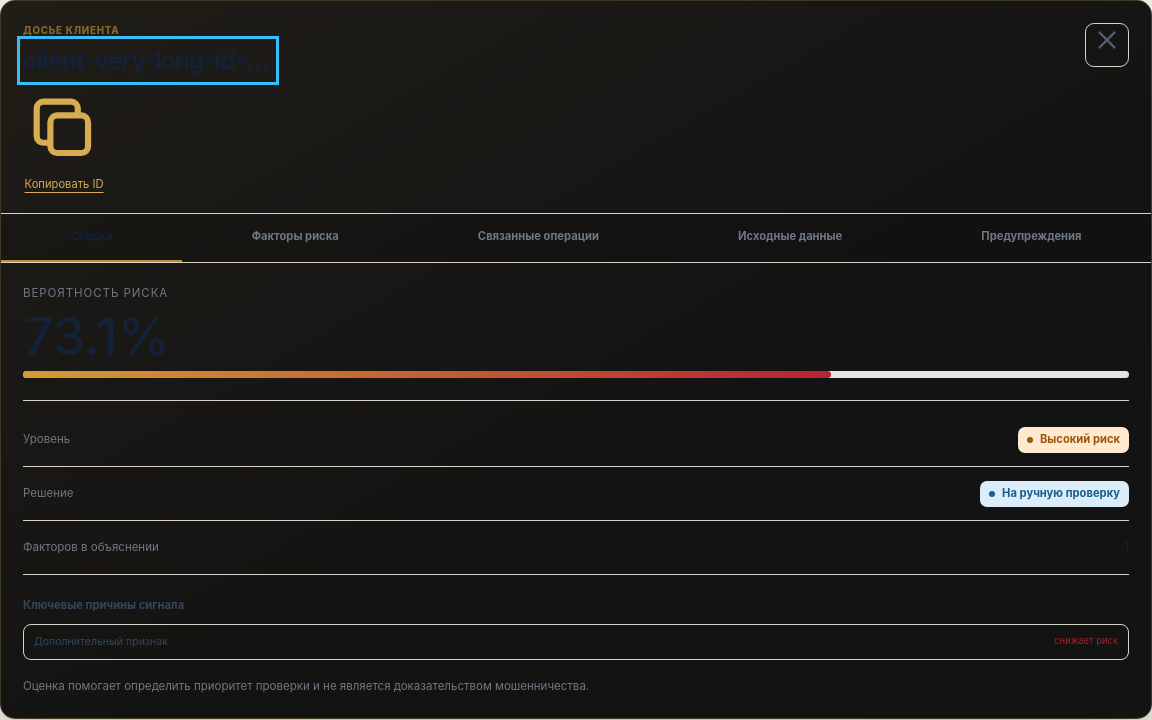
Scenario: RecordDetails › shows a human-readable evidence timeline for related operations
Click the tab "Связанные операции" at (538, 238), box left=408, top=214, right=668, bottom=262
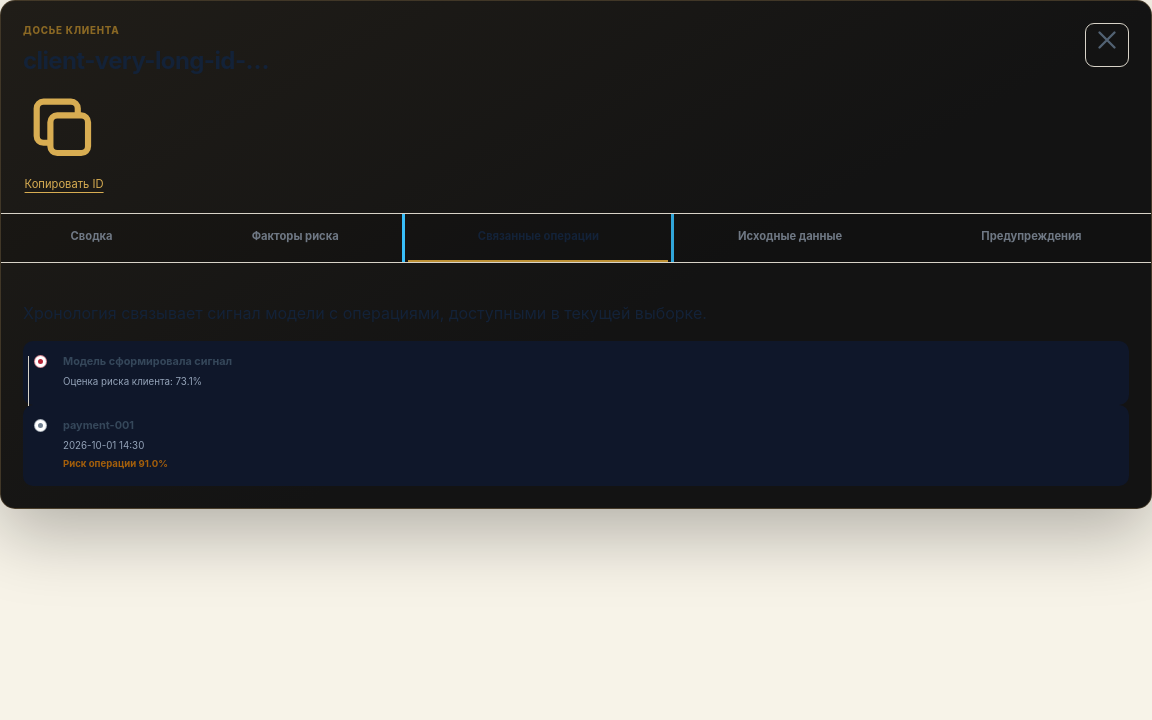
Expected: the text "Модель сформировала сигнал" is shown, left=63, top=354, right=232, bottom=368
Expected: the text "payment-001" is shown, left=63, top=418, right=134, bottom=432
Expected: the text "Риск операции 91.0%" is shown, left=63, top=458, right=168, bottom=469
